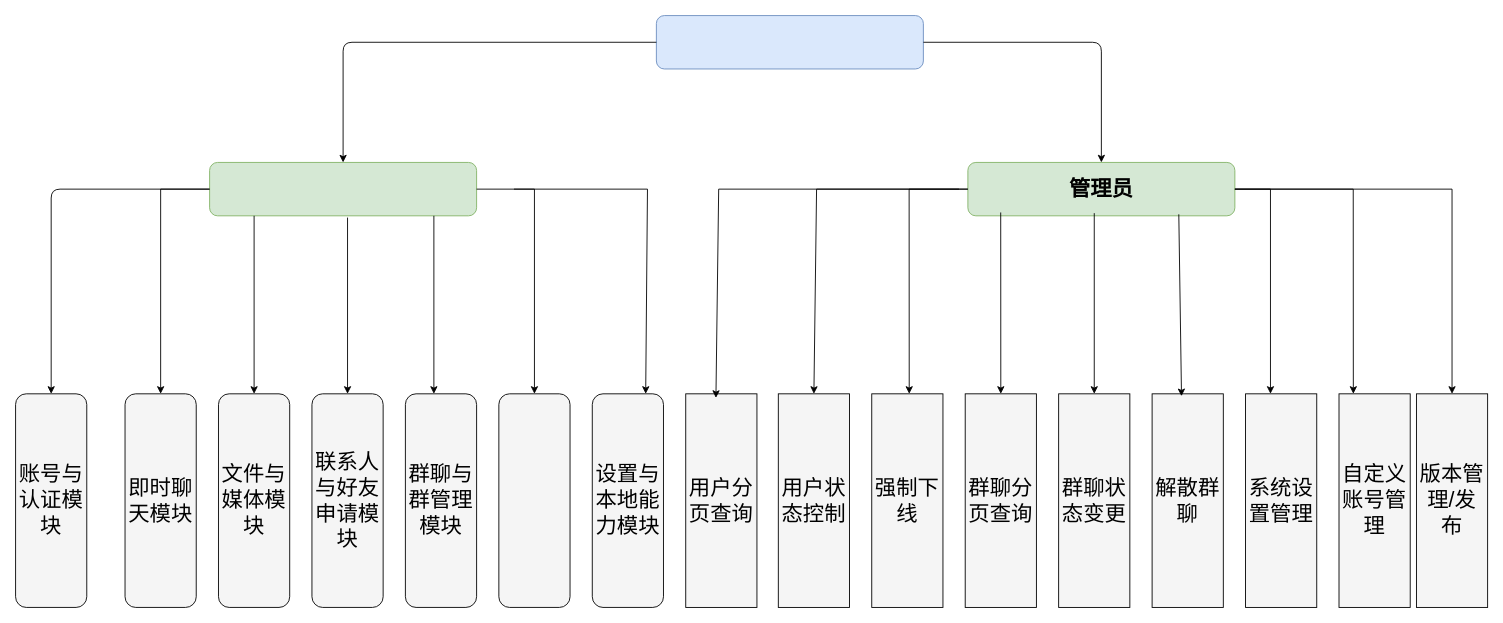
The diagram is 1503 pixels wide and 623 high, and some of its shapes have lost their labels. Here are the shapes that lost their labels. From the top down, the centre of each, then its label:
(x=789, y=42): SwiftChat系统
(x=343, y=189): 普通用户
(x=534, y=500): 视频通话与实时信令模块
